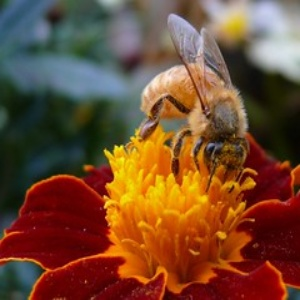bee: (136, 12, 251, 196)
